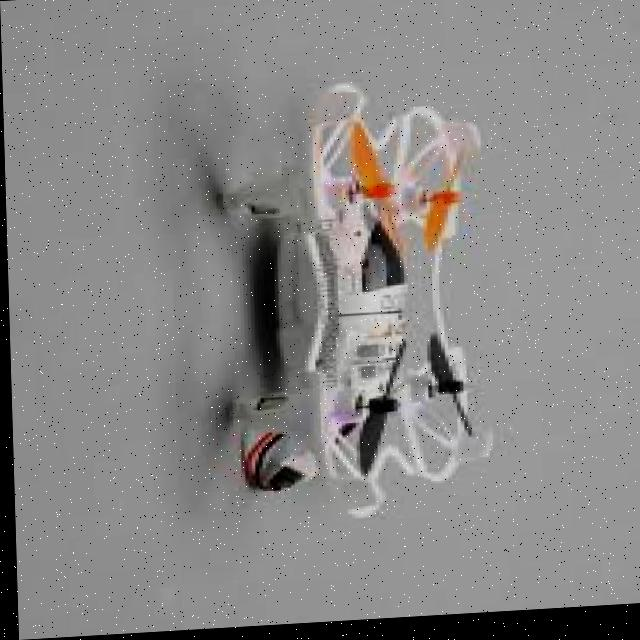drone: (192, 67, 507, 541)
